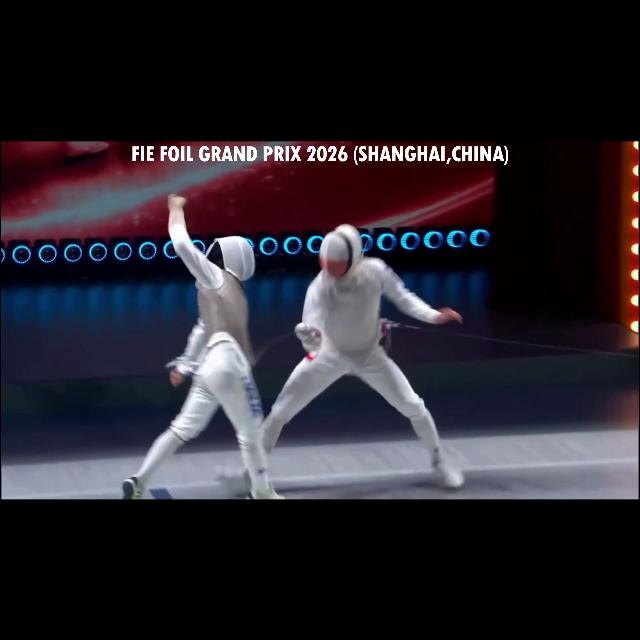blade: (248, 320, 312, 370)
